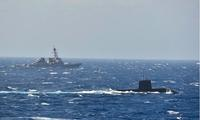MIL_Ship: (11, 46, 81, 68)
